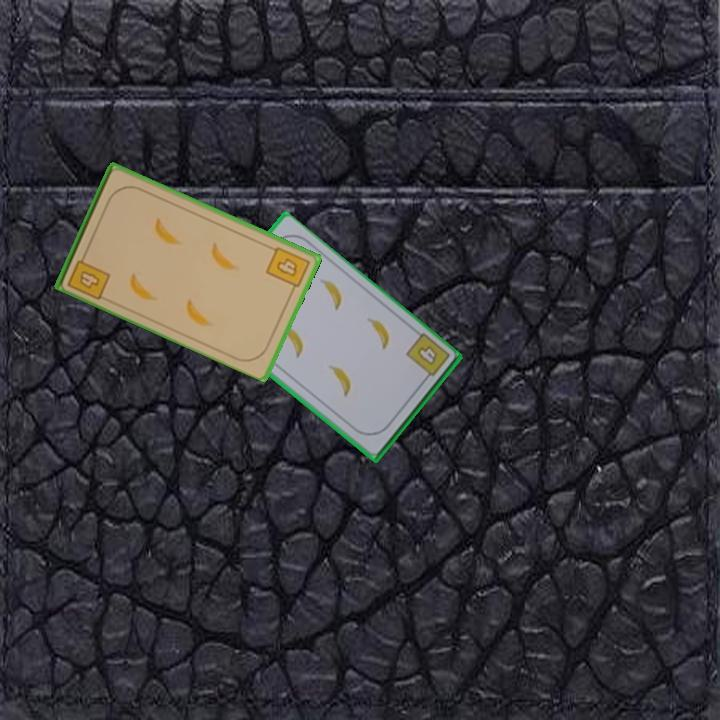4b: (262, 243, 313, 296), (64, 248, 113, 302), (413, 342, 440, 368)
